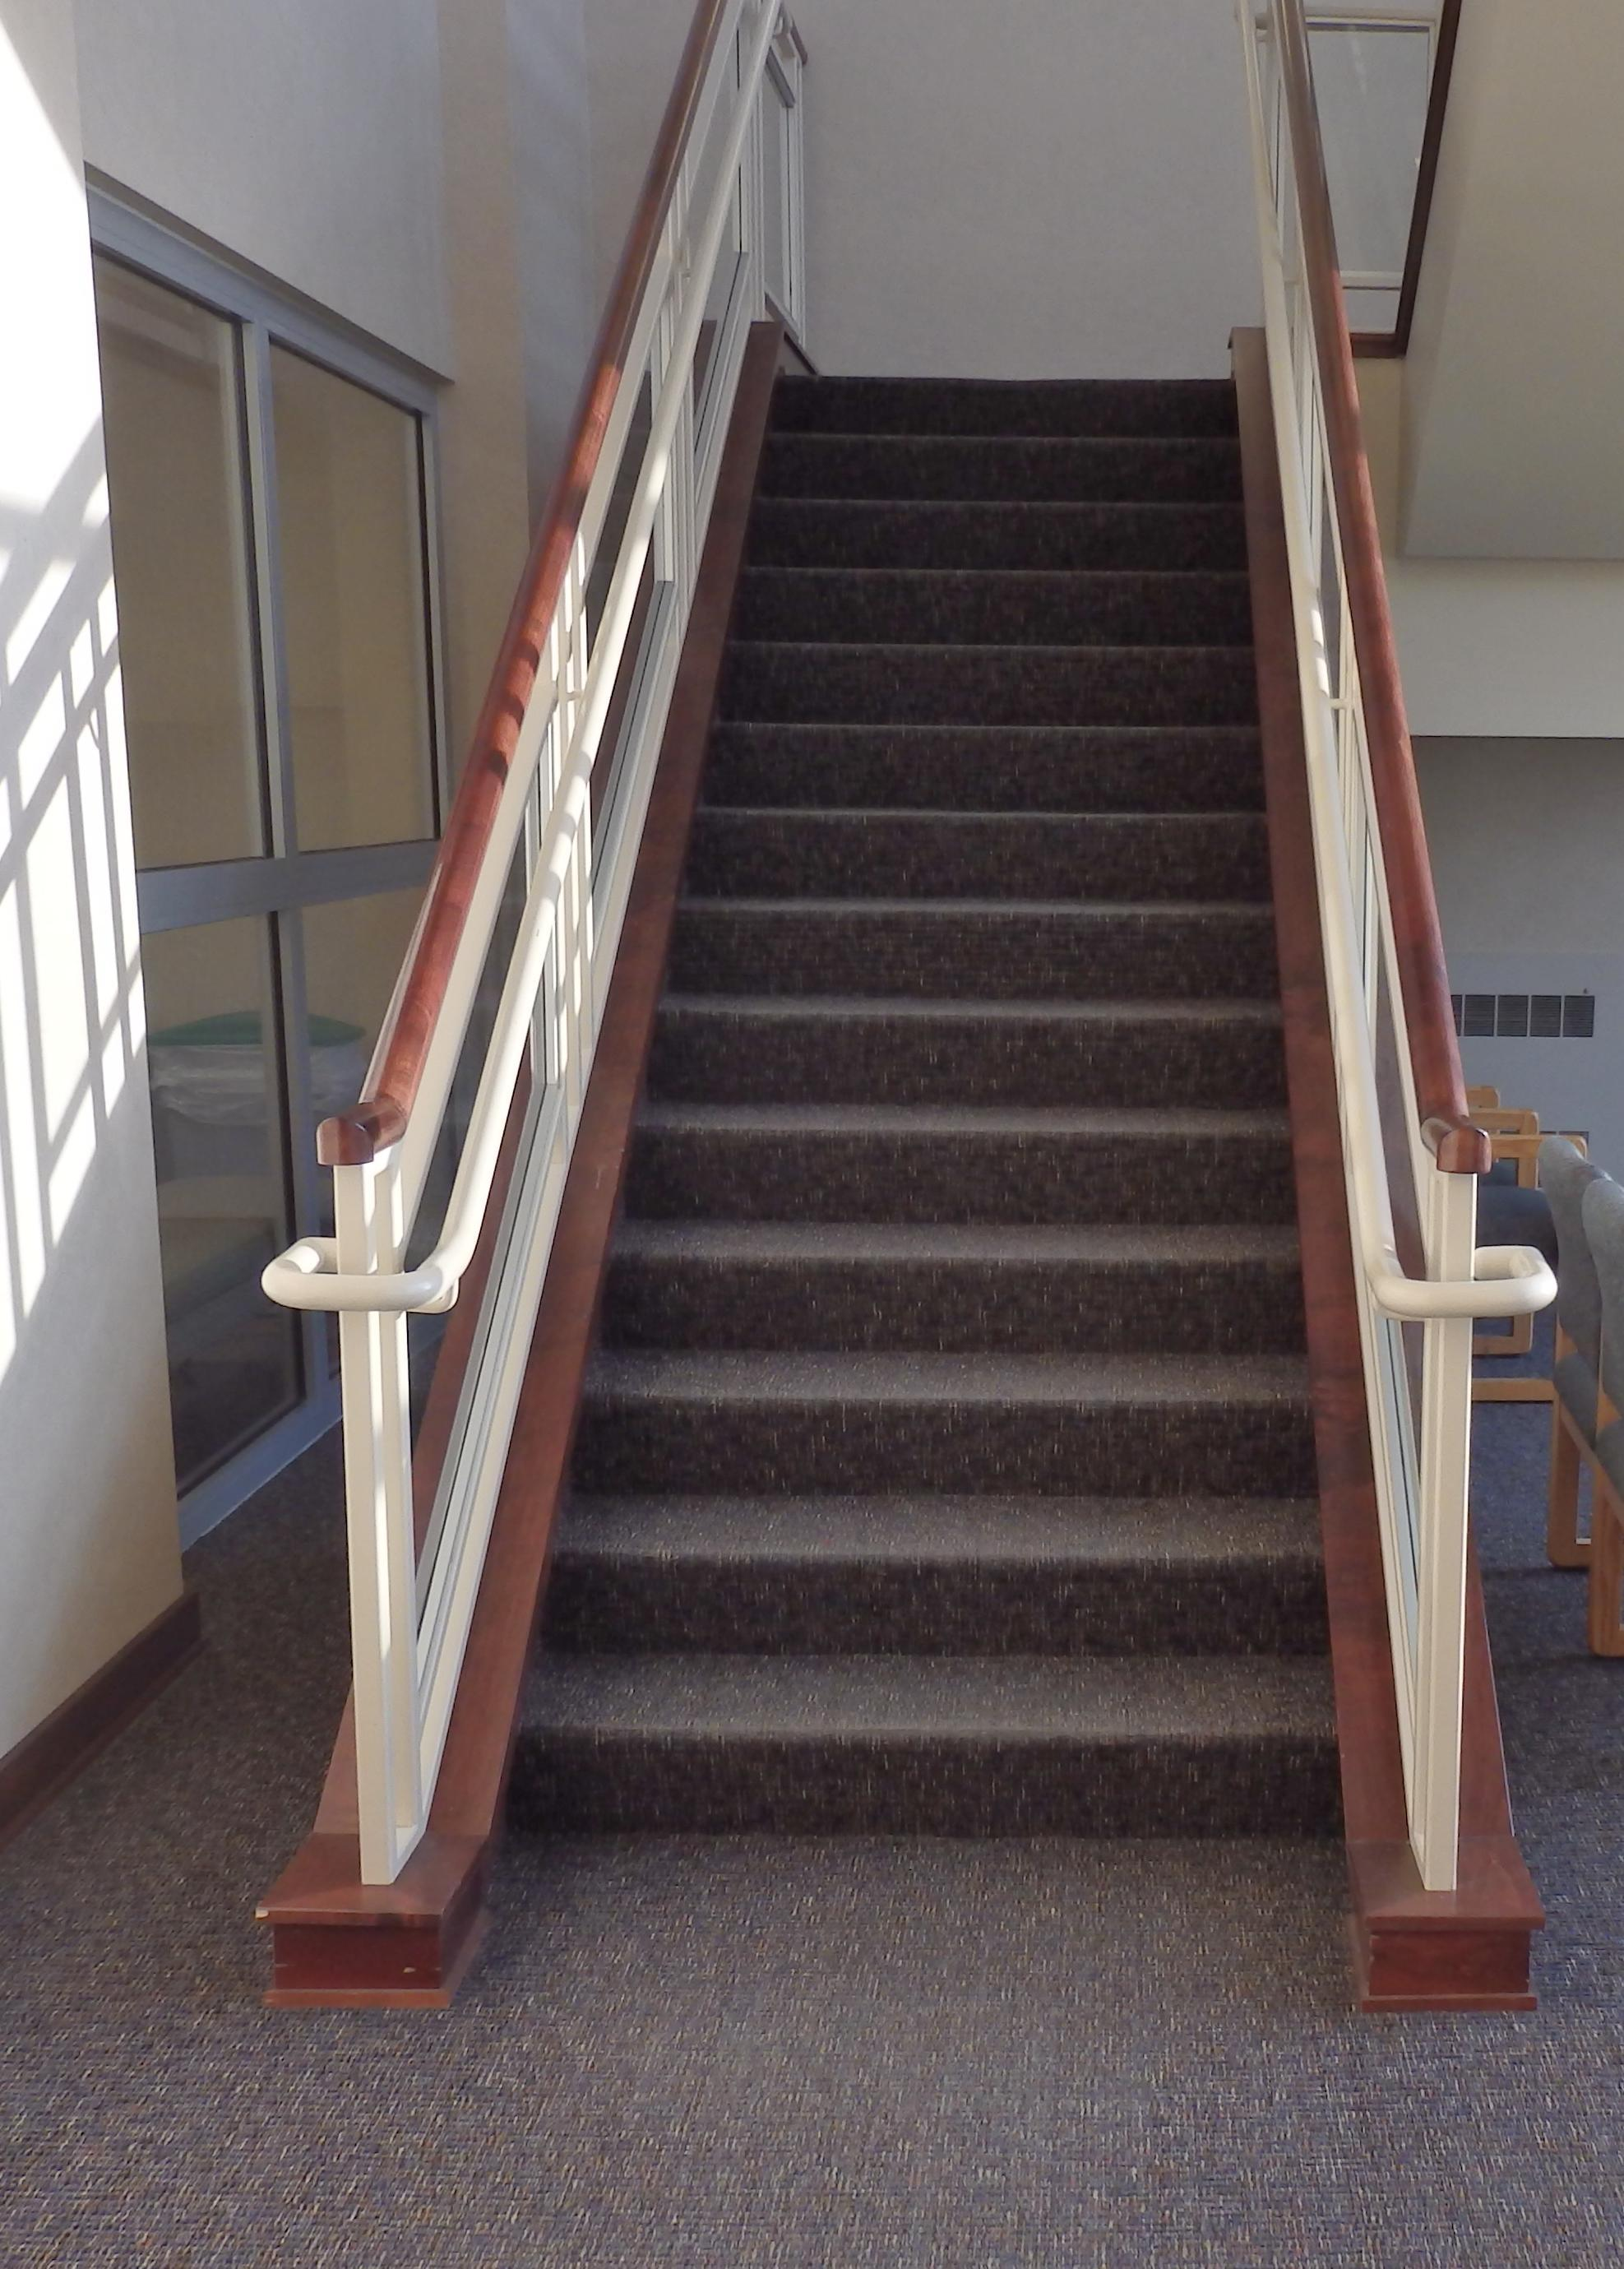stairs_up: (480, 369, 1338, 1910)
